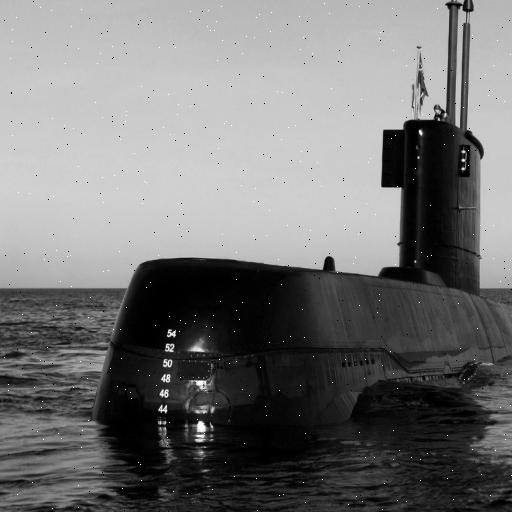submarine: (84, 1, 512, 440)
